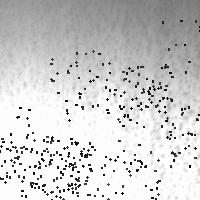pitted_surface: (12, 8, 198, 198), (106, 66, 166, 126), (50, 50, 109, 109), (101, 140, 158, 200), (38, 136, 94, 195), (13, 107, 69, 165), (120, 67, 174, 127), (9, 146, 65, 200), (30, 147, 87, 200), (162, 17, 200, 76), (166, 106, 200, 165), (0, 124, 28, 181), (45, 175, 103, 200)
